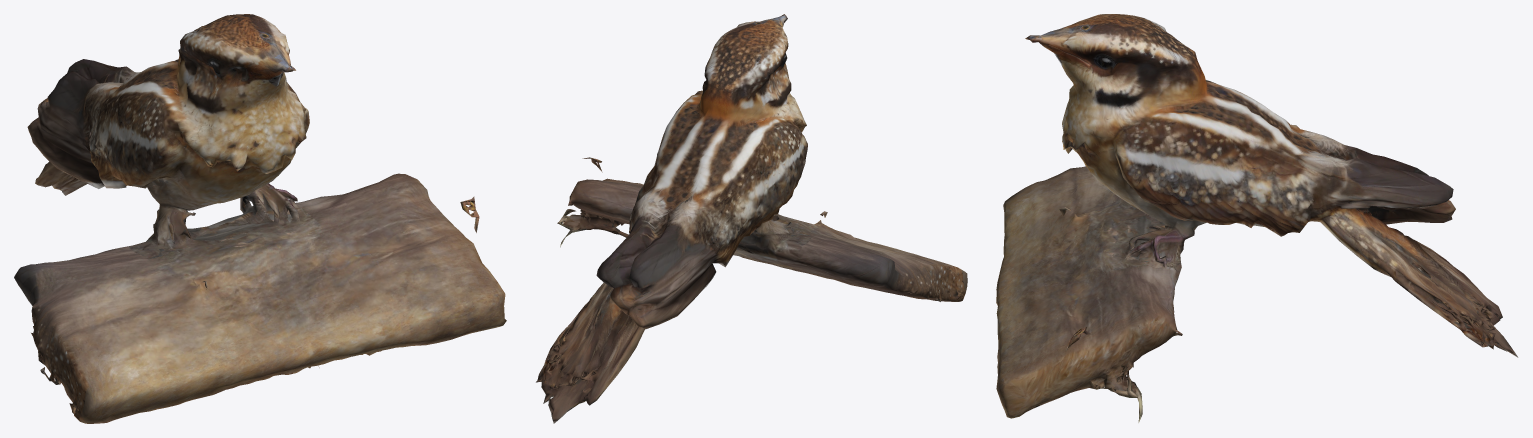
File: fauna1.glb
3 renders of one model, left to right at view 1: azimuth 30°, elevation 25°; view 2: azimuth 150°, elevation 25°; view 3: azimuth 270°, elevation 25°, orthographic. The views are drawn at different scales.
Bounding box in the file's own units: 1.86 × 1.35 × 1.98.
Materials: 1 (1 with a texture image).
